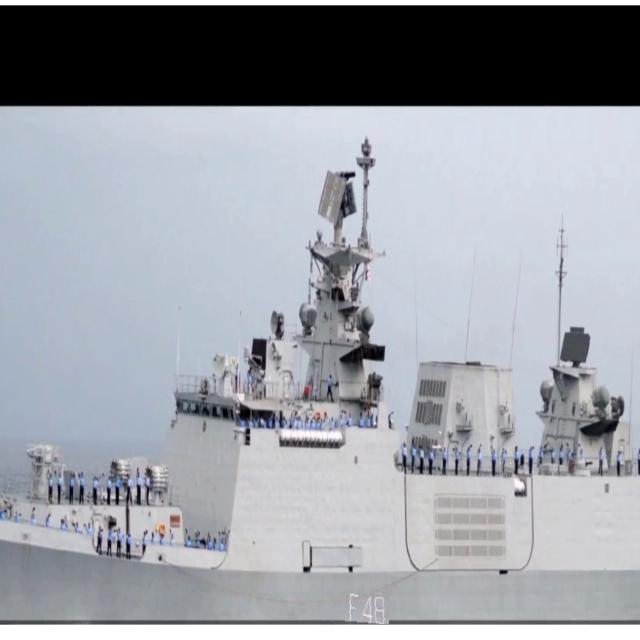OCR: (336, 587, 389, 624)
